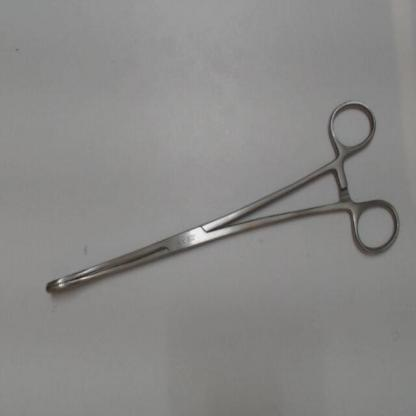Sponge Forceps: (34, 92, 406, 307)
